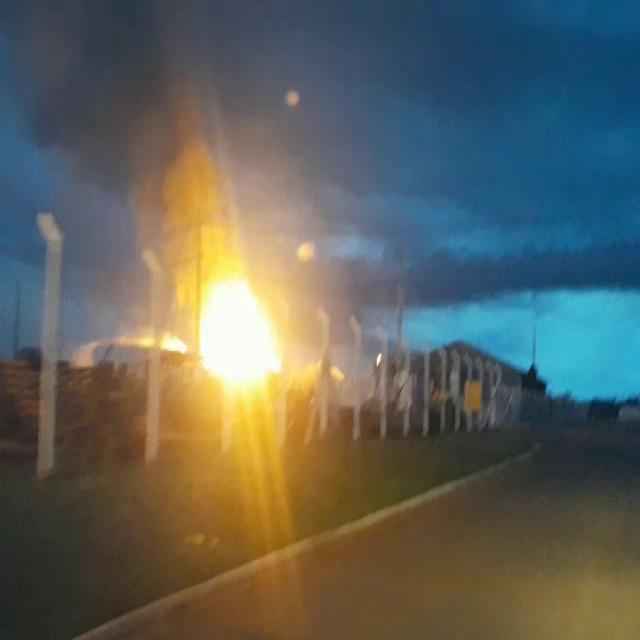Fire: (204, 267, 273, 380), (128, 324, 183, 358)
Smoke: (6, 8, 223, 236)
